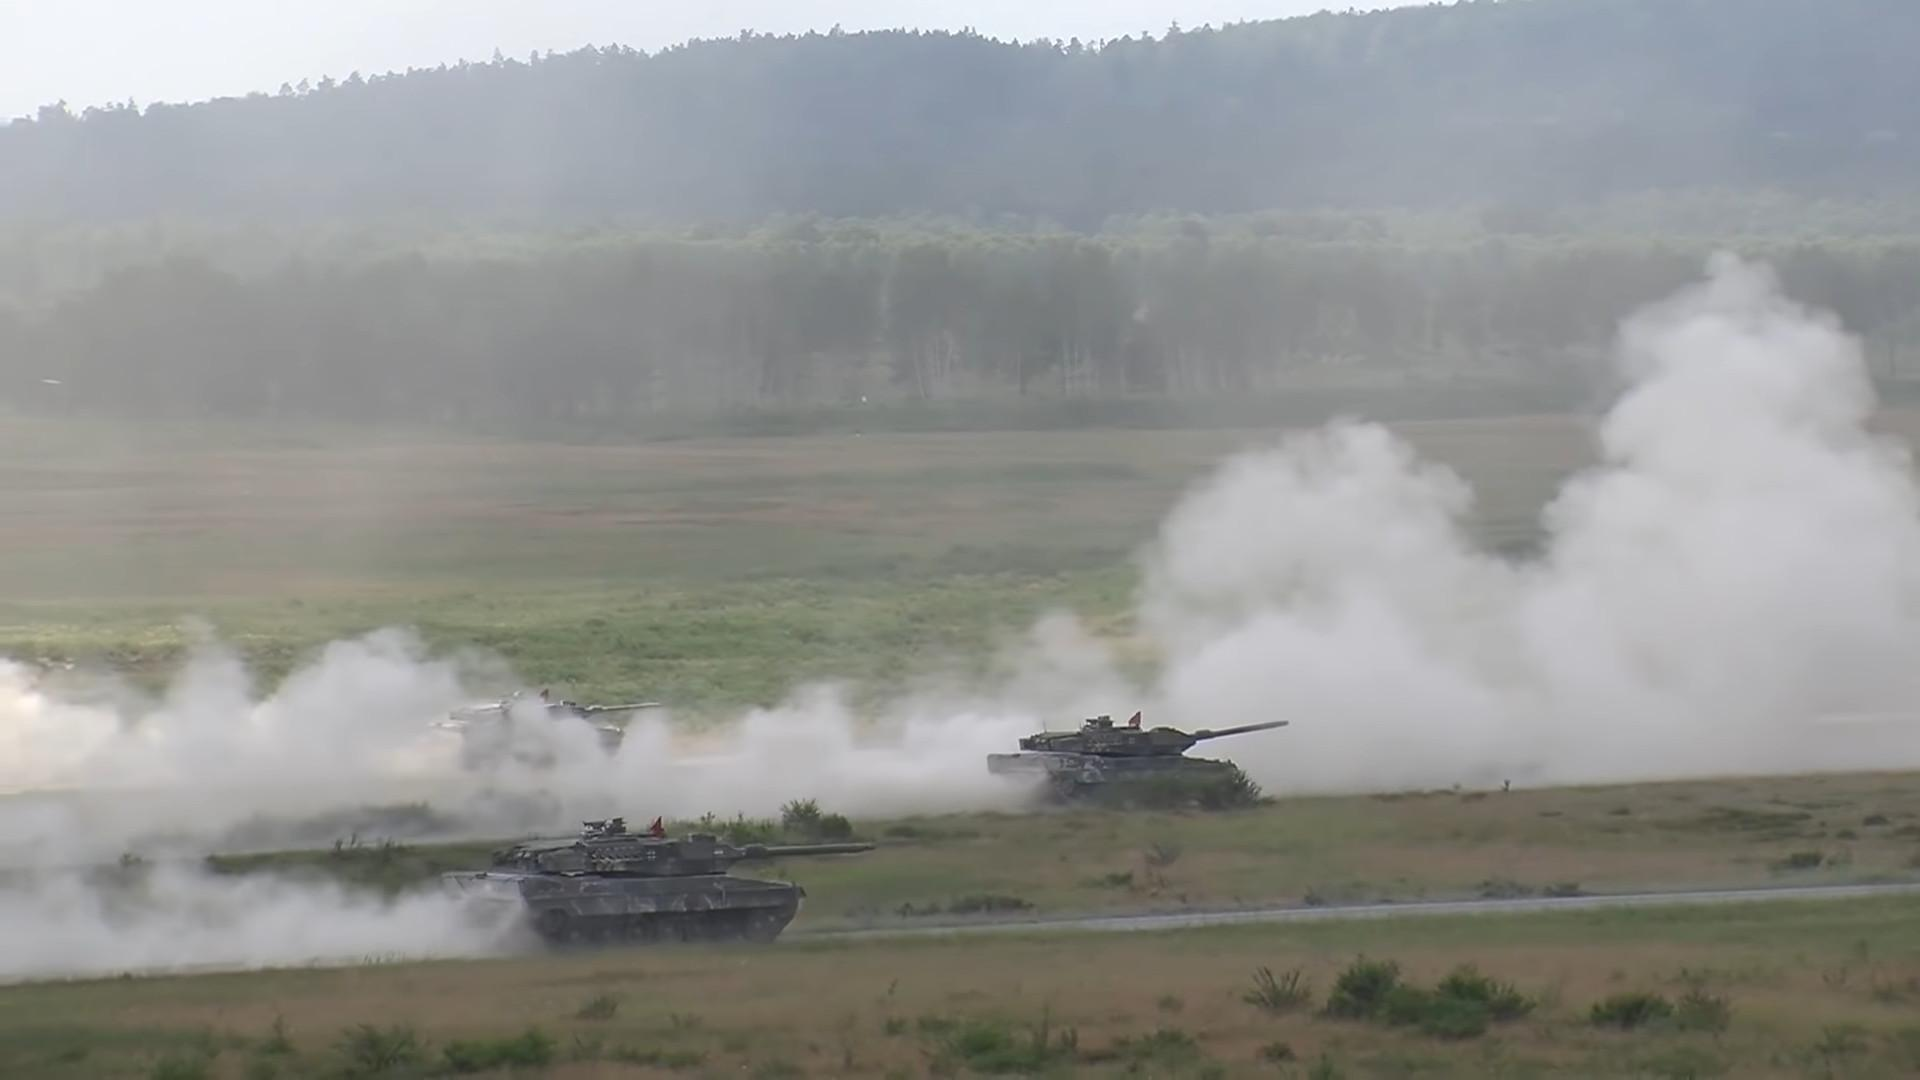tank: (440, 840, 877, 944), (989, 716, 1288, 804), (431, 702, 662, 753)
